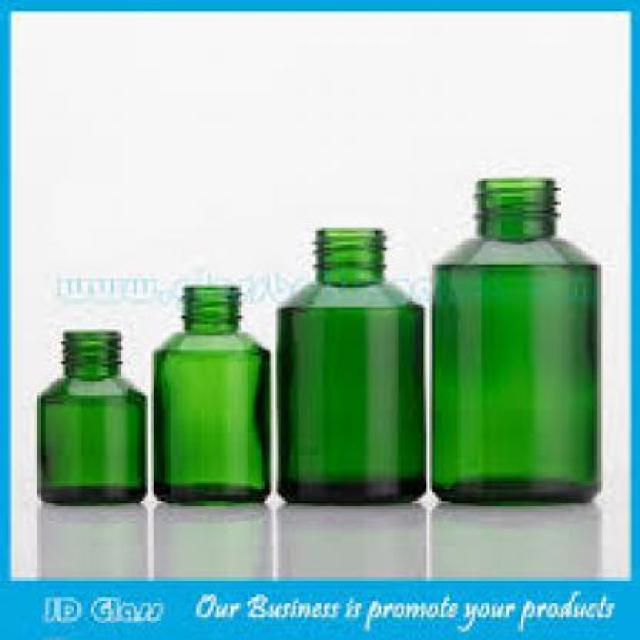kaca: (429, 177, 597, 503), (274, 225, 424, 503), (150, 285, 268, 503), (34, 328, 143, 503)
